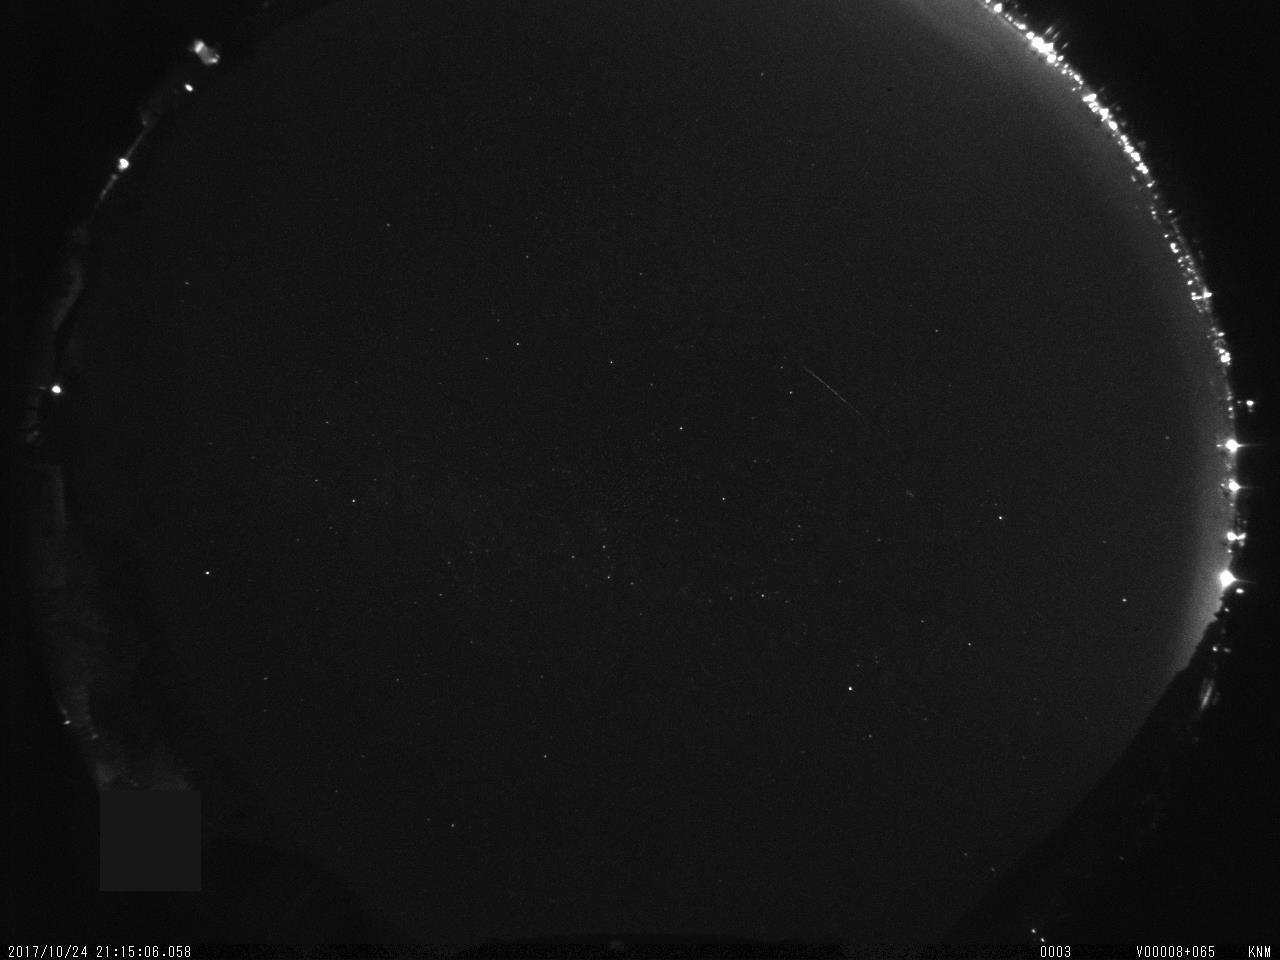Meteor: (796, 358, 876, 433)
